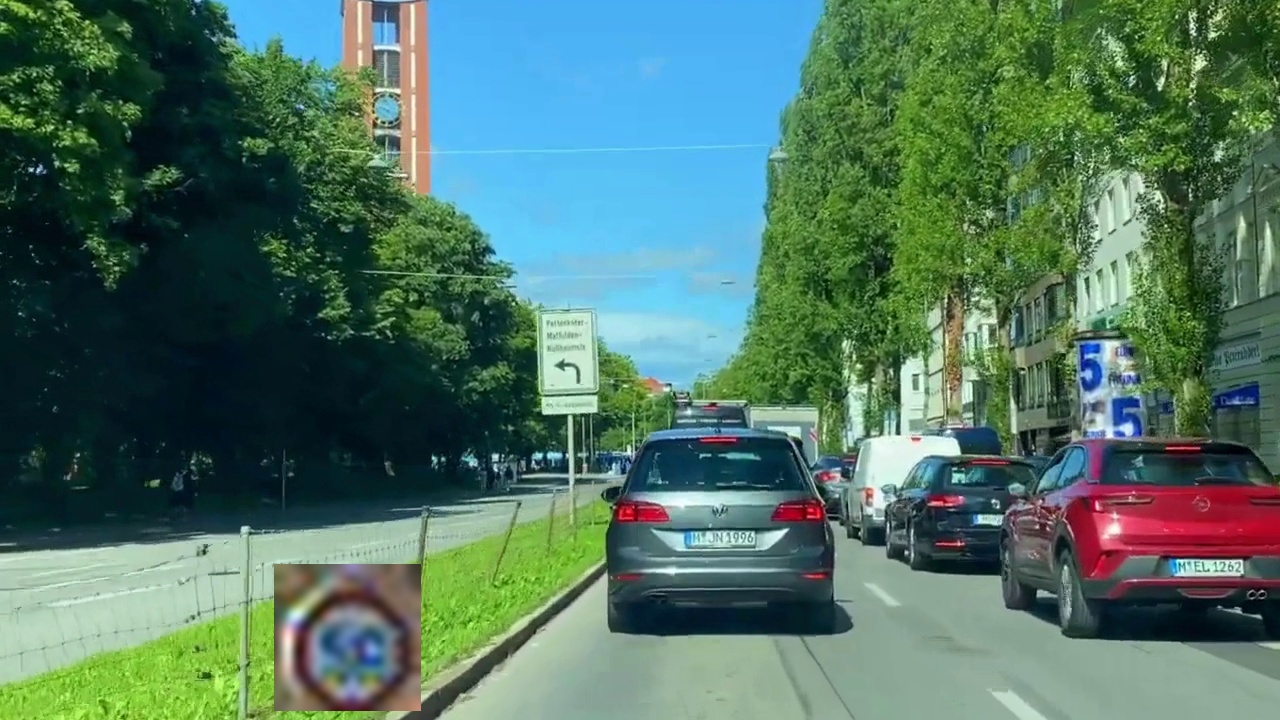Speed 50: (274, 564, 421, 711)
